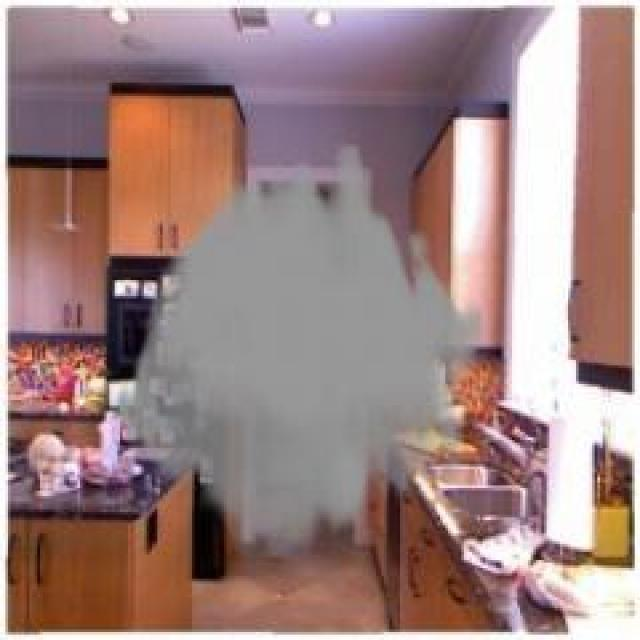Smoke: (113, 145, 487, 559)
